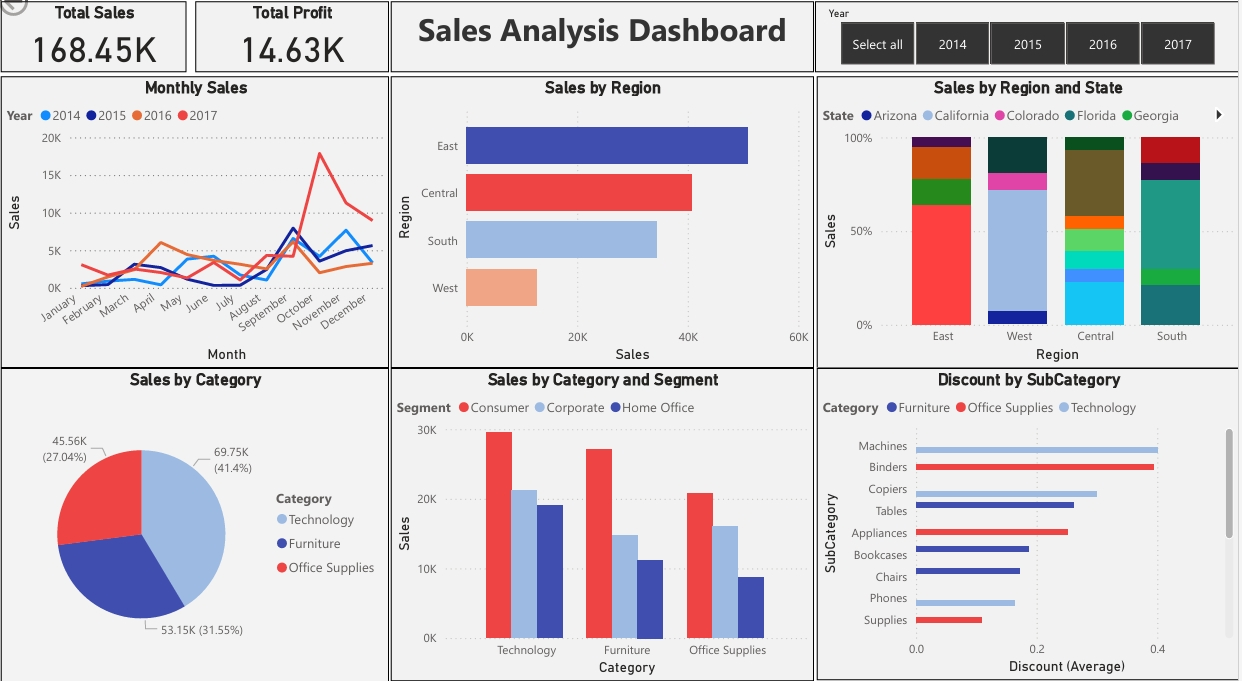

Layout of this report page (visuals, bound fields, positions):
{"tool":"powerbi","page":{"name":"Dashboard","canvas":[1280,720],"ordinal":0},"visuals":[{"type":"pieChart","title":"Sales by Category","fields":{"Y":["Sum(SalesData.TotalSales)"],"Category":["SalesData.Category"]},"box":[7.5,397.4,398.5,322.4],"z":0},{"type":"clusteredColumnChart","title":"Sales by Category and Segment","fields":{"Y":["Sum(SalesData.TotalSales)"],"Category":["SalesData.Category"],"Series":["SalesData.Segment"]},"box":[408.1,397.4,434.9,321.3],"z":1000},{"type":"lineChart","title":"Monthly Sales","fields":{"Y":["Sum(SalesData.TotalSales)"],"Category":["SalesData.OrderDateFixed.Variation.Date Hierarchy.Month"],"Series":["SalesData.OrderDateFixed.Variation.Date Hierarchy.Year"]},"box":[7.5,97.5,398.5,299.9],"z":2000},{"type":"hundredPercentStackedColumnChart","title":"Sales by Region and State","fields":{"Category":["SalesData.Region"],"Series":["SalesData.State"],"Y":["Sum(SalesData.TotalSales)"]},"box":[846.2,97.5,433.8,299.9],"z":3000},{"type":"actionButton","box":[0,0,100,40],"z":4000},{"type":"slicer","fields":{"Values":["SalesData.OrderDateFixed.Variation.Date Hierarchy.Year"]},"box":[844.1,20.4,435.9,72.8],"z":5000},{"type":"card","title":"Total Sales","fields":{"Values":["Sum(SalesData.TotalSales)"]},"box":[7.5,20.4,190.7,72.8],"z":6000},{"type":"card","title":"Total Profit","fields":{"Values":["Sum(SalesData.Profit)"]},"box":[206.7,20.4,199.2,72.8],"z":7000},{"type":"clusteredBarChart","title":"Discount by SubCategory","fields":{"Y":["Avg(SalesData.Discount)"],"Category":["SalesData.SubCategory"],"Series":["SalesData.Category"]},"box":[846.2,397.4,433.8,320.3],"z":8000},{"type":"clusteredBarChart","title":"Sales by Region","fields":{"Y":["Sum(SalesData.TotalSales)"],"Category":["SalesData.Region"]},"box":[408.1,97.5,434.9,299.9],"z":9000},{"type":"textbox","box":[408.1,20.4,434.9,72.8],"z":10000}]}

Visuals, with their boxes in screenshot pixels (x1, y1, x2, y2), scaled from the page's 1280x720 canvas onto the 1242x681 screenshot:
"Sales by Category" pieChart: [x1=7, y1=376, x2=394, y2=680]
"Sales by Category and Segment" clusteredColumnChart: [x1=396, y1=376, x2=818, y2=680]
"Monthly Sales" lineChart: [x1=7, y1=92, x2=394, y2=376]
"Sales by Region and State" hundredPercentStackedColumnChart: [x1=821, y1=92, x2=1241, y2=376]
actionButton: [x1=0, y1=0, x2=97, y2=38]
slicer - SalesData.OrderDateFixed.Variation.Date Hierarchy.Year: [x1=819, y1=19, x2=1241, y2=88]
"Total Sales" card: [x1=7, y1=19, x2=192, y2=88]
"Total Profit" card: [x1=201, y1=19, x2=394, y2=88]
"Discount by SubCategory" clusteredBarChart: [x1=821, y1=376, x2=1241, y2=679]
"Sales by Region" clusteredBarChart: [x1=396, y1=92, x2=818, y2=376]
textbox: [x1=396, y1=19, x2=818, y2=88]
